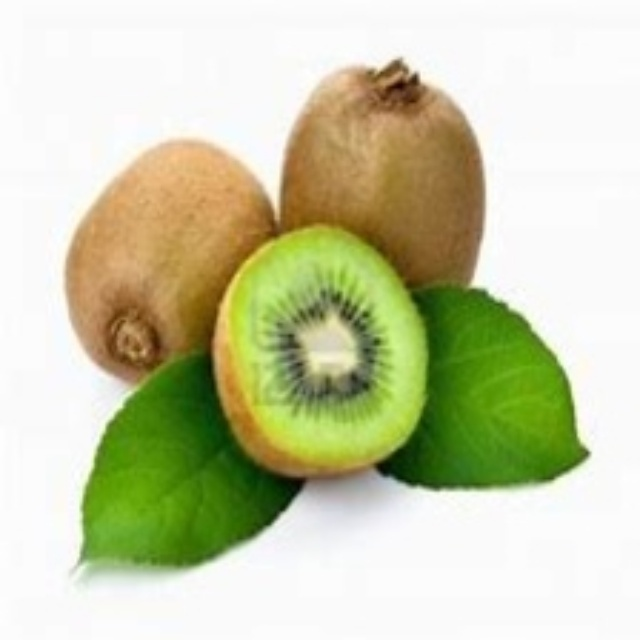kiwi: (63, 135, 289, 384), (218, 229, 428, 479), (279, 61, 493, 293)
